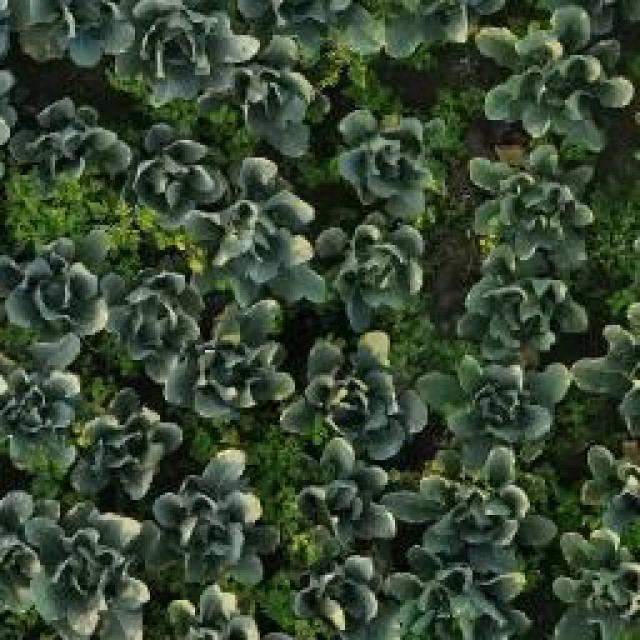cabbage: (473, 4, 633, 140), (17, 504, 151, 640), (463, 141, 599, 257), (429, 331, 562, 449), (157, 443, 266, 583), (8, 91, 136, 206), (184, 298, 298, 425), (108, 0, 243, 106), (408, 444, 538, 554), (223, 30, 330, 158), (453, 245, 594, 338), (127, 118, 234, 238), (0, 230, 112, 343), (291, 438, 401, 553), (72, 386, 183, 499), (214, 168, 318, 288), (99, 258, 203, 377), (318, 214, 428, 325), (391, 556, 532, 640), (329, 108, 442, 210), (0, 333, 80, 465), (304, 361, 410, 451), (288, 554, 392, 640), (560, 538, 640, 639)
